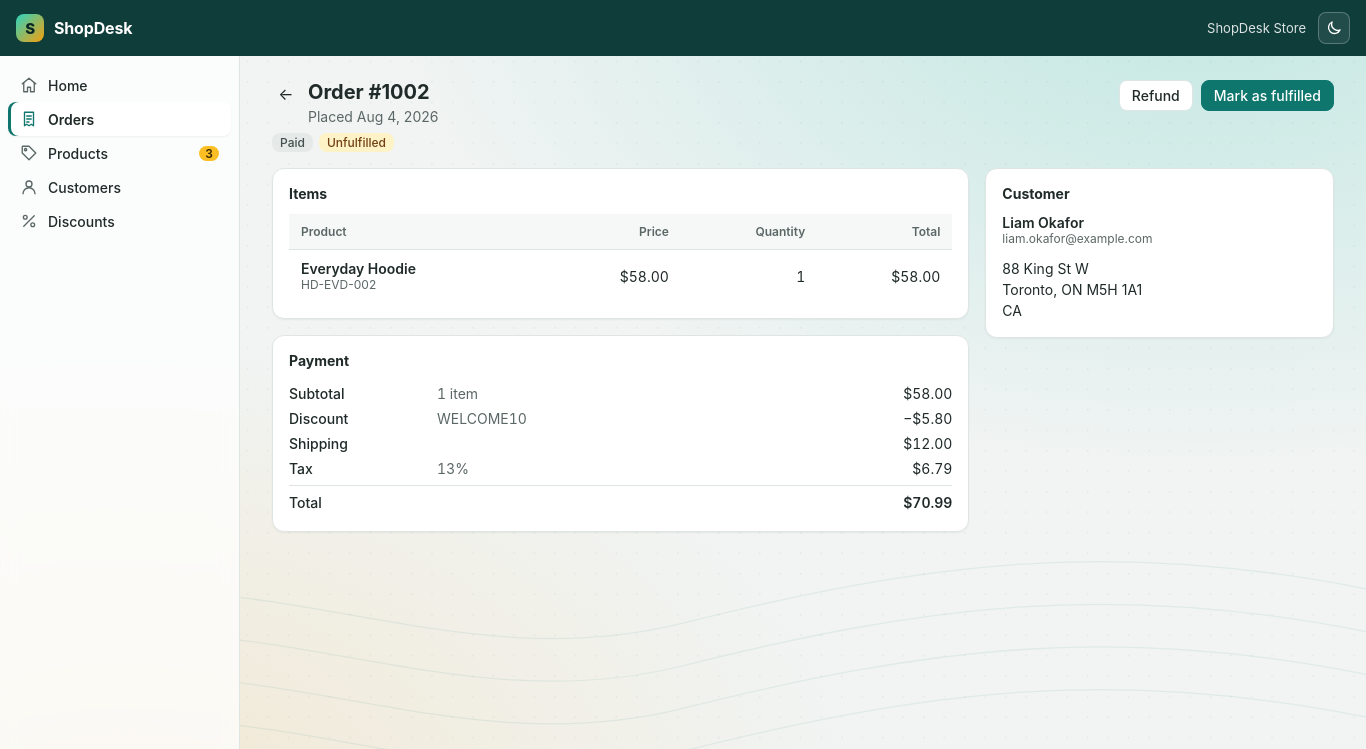
Scenario: refunding an order › marks the order refunded when everything is returned
Step 1. Click the button "Refund" → point(1156, 96), box x1=1119 y1=80 x2=1193 y2=111
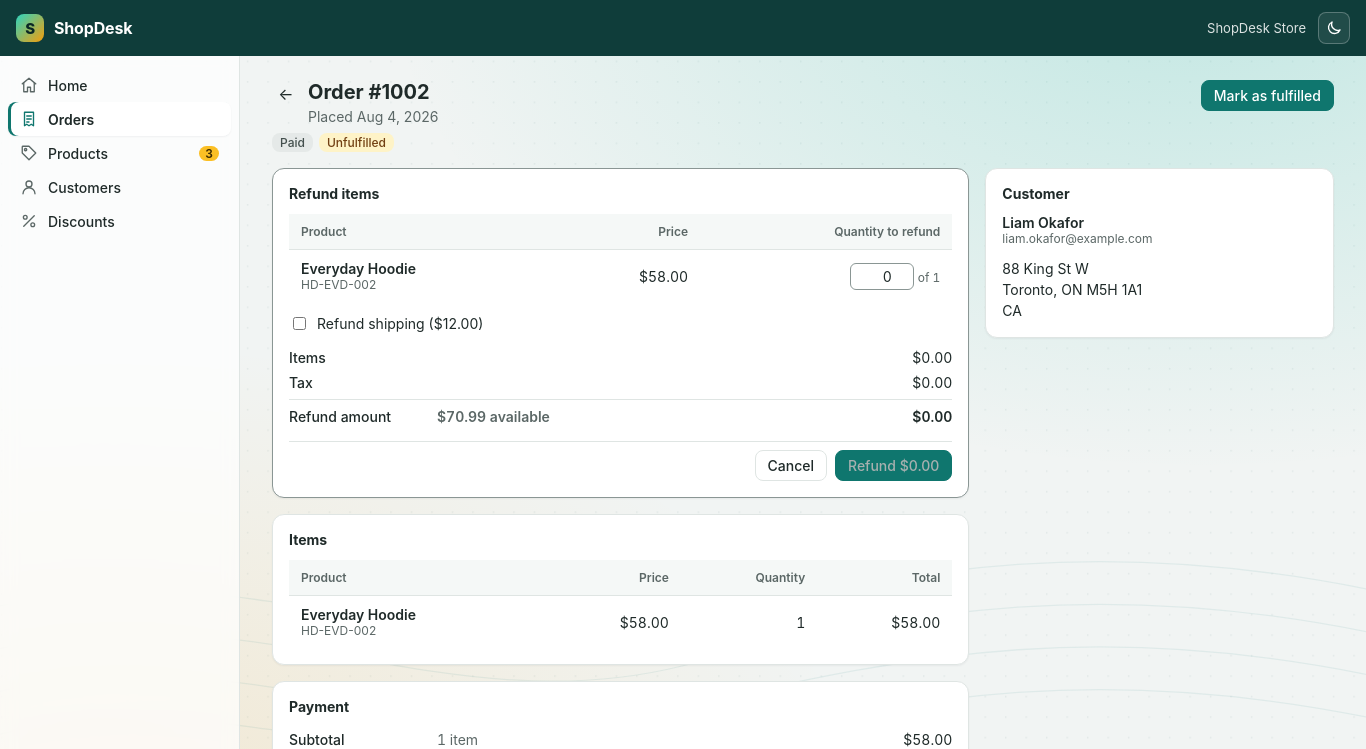
Step 2. Replace the text in the number field named "Quantity of Everyday Hoodie to refund" with "1" → point(882, 276), box x1=850 y1=262 x2=914 y2=290
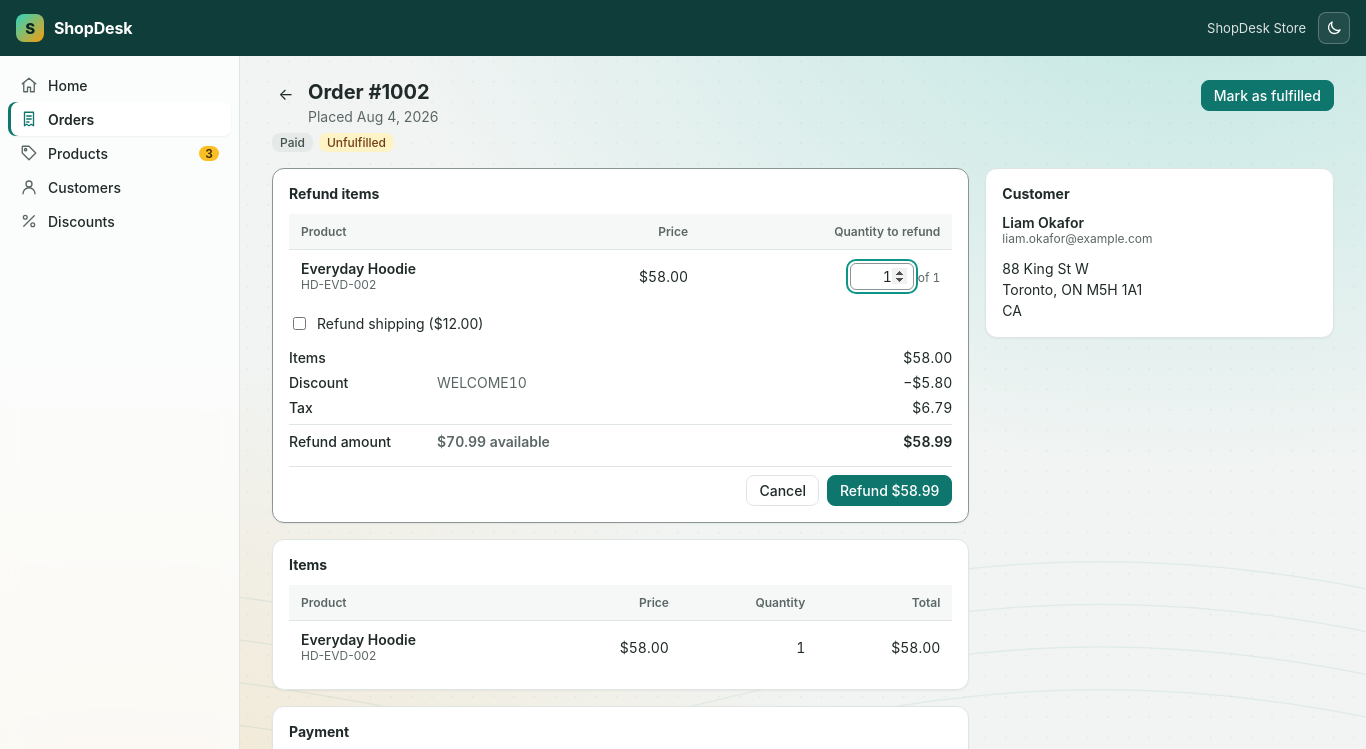
Step 3. Click the checkbox labelled "Refund shipping ($12.00)" → point(300, 324), box x1=293 y1=317 x2=306 y2=330
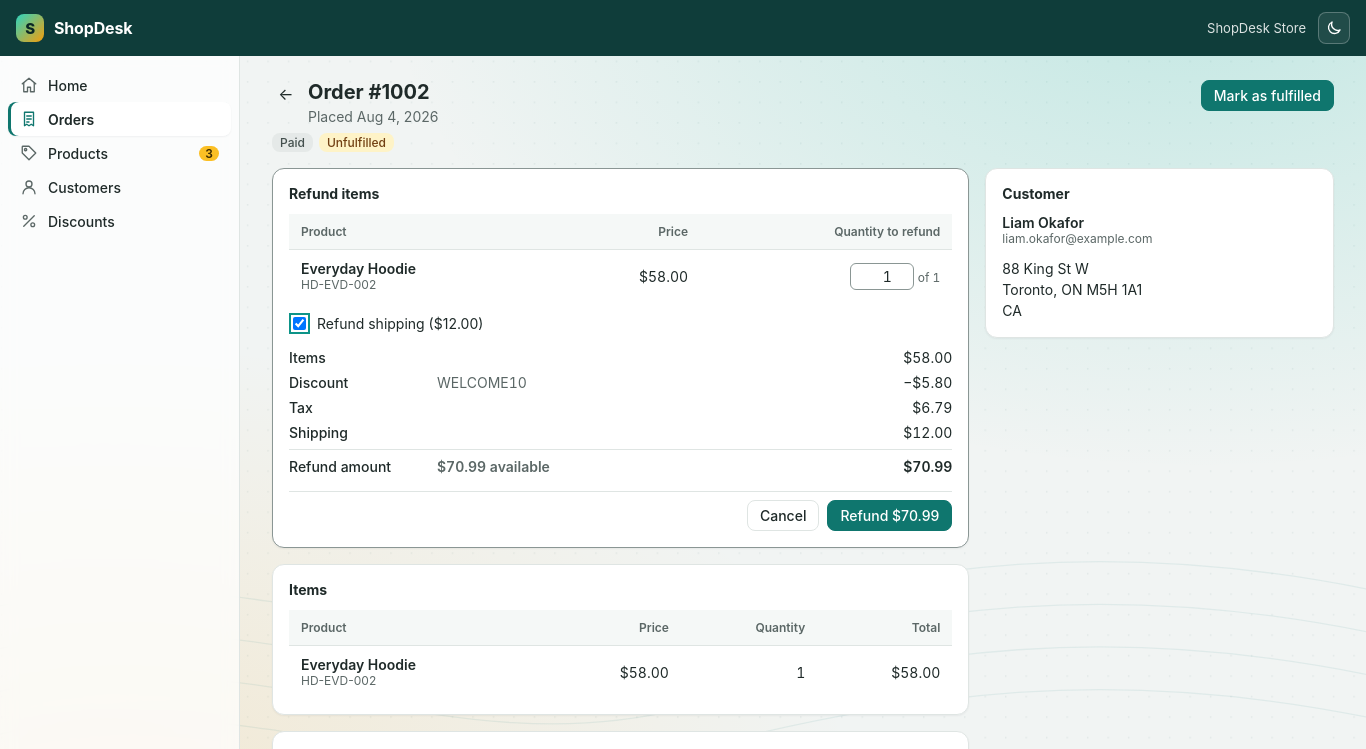
Step 4. Click the button "Refund $70.99" → point(890, 516), box x1=827 y1=500 x2=952 y2=531
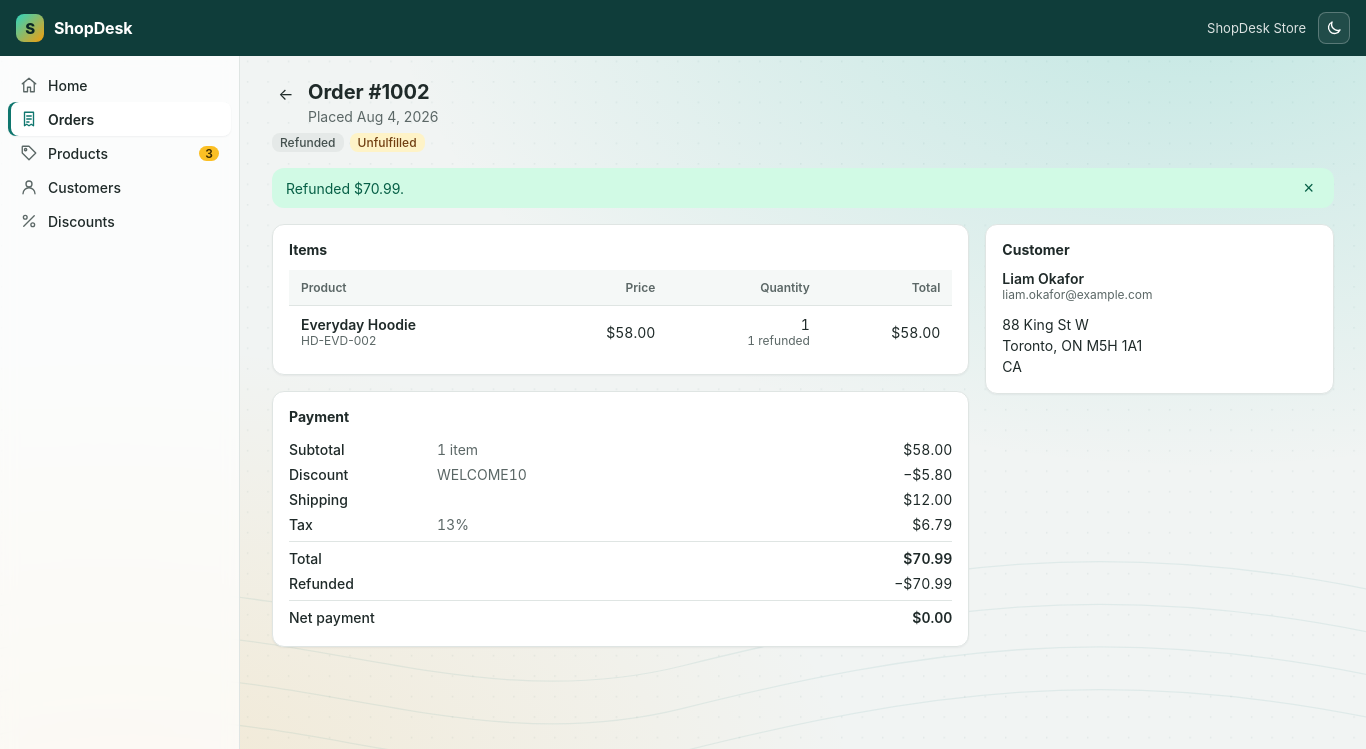
Check: the text "Refunded" next to "Unfulfilled" is shown, box x1=280 y1=135 x2=336 y2=150
Check: the button "Mark as fulfilled" is gone
